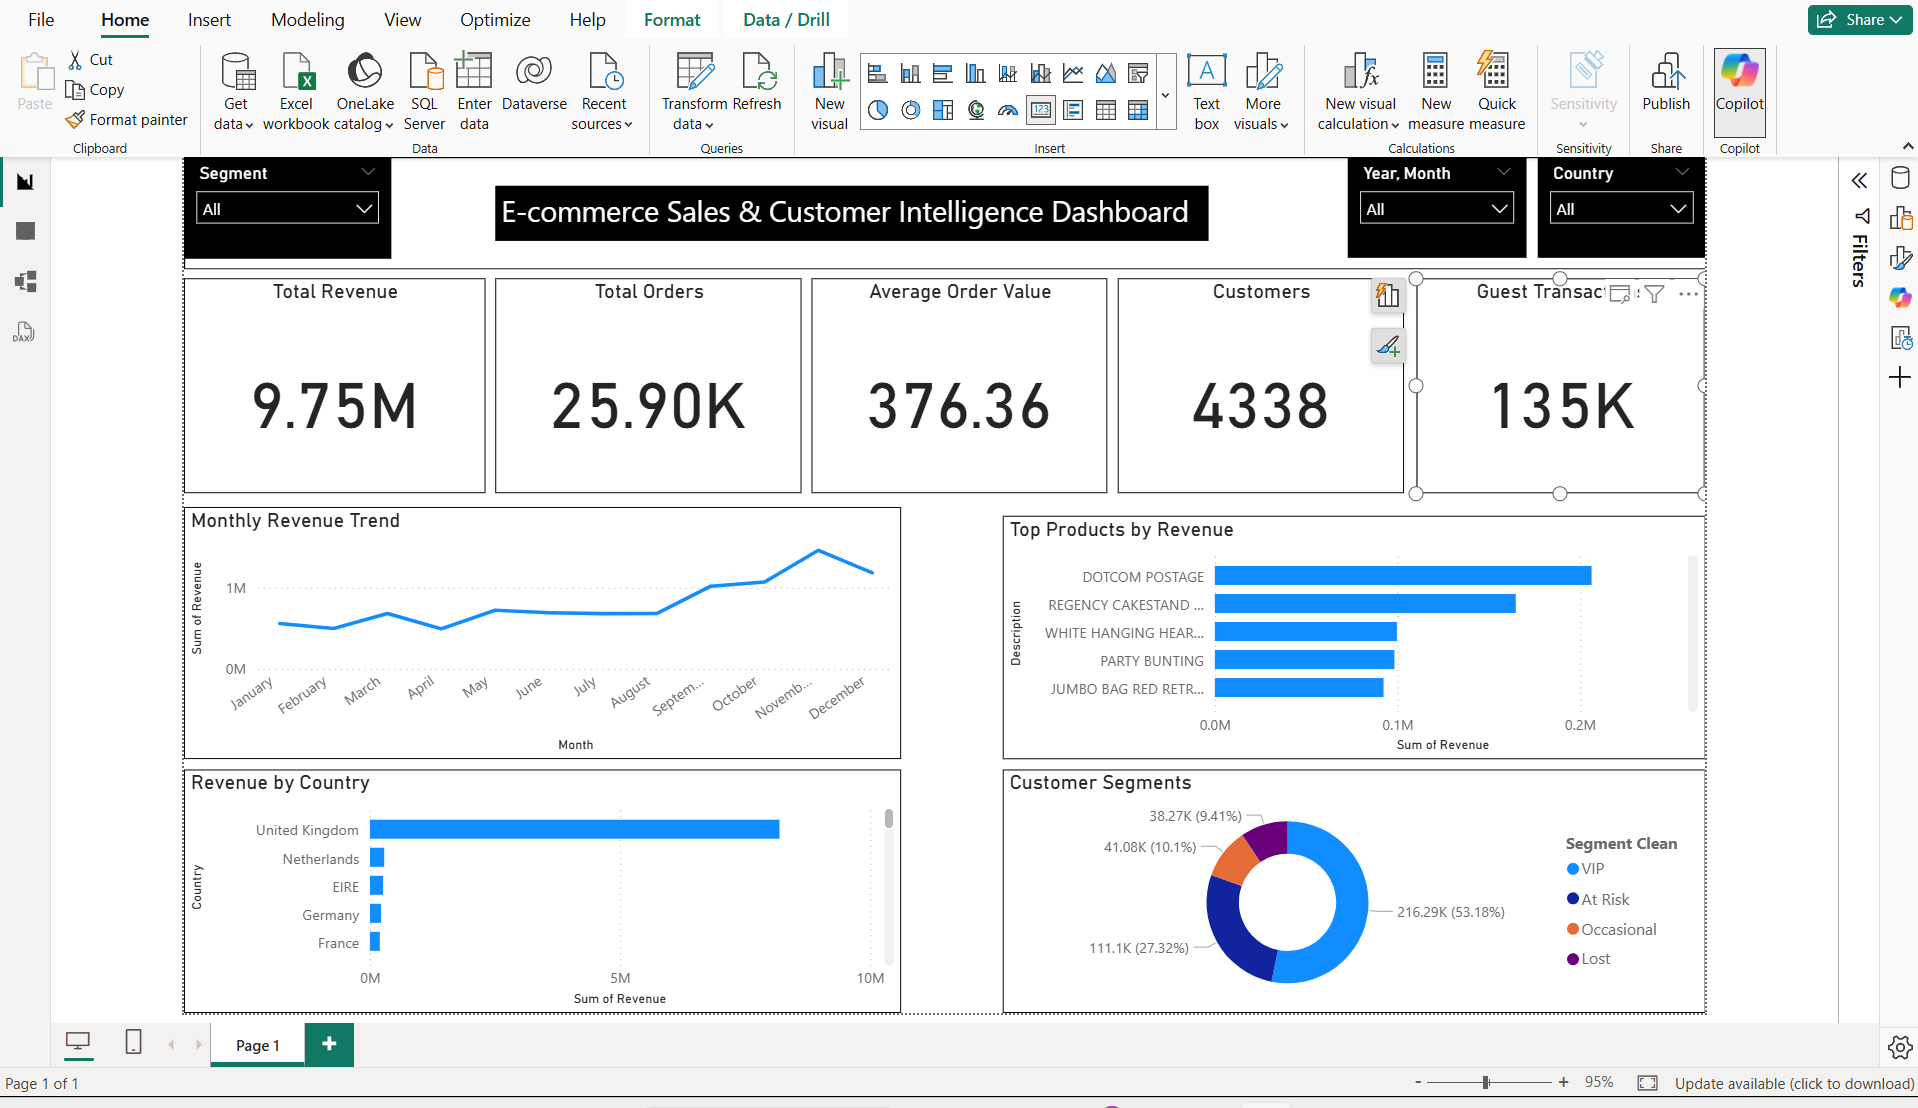

This screenshot's page, from the dashboard's own definition file:
{"tool":"powerbi","page":{"name":"Page 1","canvas":[1280,720],"ordinal":0},"visuals":[{"type":"shape","box":[0,0,1280.6,94.6],"z":0},{"type":"card","title":"Total Revenue","fields":{"Values":["Sum(OnlineRetail.Revenue)"]},"box":[0,102,253.4,180.8],"z":1000},{"type":"card","title":"Total Orders","fields":{"Values":["Count(OnlineRetail.InvoiceNo)"]},"box":[261.8,102,257.6,180.8],"z":2000},{"type":"card","title":"Average Order Value","fields":{"Values":["Measures Table.AOV"]},"box":[527.8,102,249.2,180.8],"z":3000},{"type":"card","title":"Customers","fields":{"Values":["Count(customer_segments_labelled.CustomerID)"]},"box":[785.4,102,240.8,180.8],"z":4000},{"type":"lineChart","title":"Monthly Revenue Trend","fields":{"Category":["OnlineRetail.InvoiceDate.Variation.Date Hierarchy.Month"],"Y":["Sum(OnlineRetail.Revenue)"]},"box":[0,294.4,603.5,212.4],"z":5000},{"type":"barChart","title":"Top Products by Revenue","fields":{"Category":["OnlineRetail.Description"],"Y":["Sum(OnlineRetail.Revenue)"]},"box":[688.7,301.8,590.9,205],"z":6000},{"type":"barChart","title":"Revenue by Country","fields":{"Category":["OnlineRetail.Country"],"Y":["Sum(OnlineRetail.Revenue)"]},"box":[0,515.2,603.5,205],"z":7000},{"type":"donutChart","title":"Customer Segments","fields":{"Y":["CountNonNull(OnlineRetail.CustomerID)"],"Category":["customer_segments_labelled.Segment Clean"]},"box":[688.7,515.2,590.9,205],"z":8000},{"type":"textbox","box":[261.8,24.2,600.4,46.3],"z":9000},{"type":"slicer","fields":{"Values":["OnlineRetail.InvoiceDate.Variation.Date Hierarchy.Year","OnlineRetail.InvoiceDate.Variation.Date Hierarchy.Month"]},"box":[978.9,0,150.4,85.2],"z":10000},{"type":"slicer","fields":{"Values":["OnlineRetail.Country"]},"box":[1138.7,0,140.9,85.2],"z":11000},{"type":"slicer","fields":{"Values":["customer_segments_labelled.Segment"]},"box":[0,0,174.1,85.3],"z":12000},{"type":"card","title":"Guest Transactions","fields":{"Values":["Measures Table.Blank CustomerIDs"]},"box":[1036.7,102,242.9,180.8],"z":12001}]}

Visuals, with their boxes on the page's 1280x720 design canvas (x1, y1, x2, y2). These are canvas units, not pixel positions in the 1918x1108 screenshot, which may show the page scaled, cropped or inside an application window:
shape: [x1=0, y1=0, x2=1281, y2=95]
"Total Revenue" card: [x1=0, y1=102, x2=253, y2=283]
"Total Orders" card: [x1=262, y1=102, x2=519, y2=283]
"Average Order Value" card: [x1=528, y1=102, x2=777, y2=283]
"Customers" card: [x1=785, y1=102, x2=1026, y2=283]
"Monthly Revenue Trend" lineChart: [x1=0, y1=294, x2=604, y2=507]
"Top Products by Revenue" barChart: [x1=689, y1=302, x2=1280, y2=507]
"Revenue by Country" barChart: [x1=0, y1=515, x2=604, y2=720]
"Customer Segments" donutChart: [x1=689, y1=515, x2=1280, y2=720]
textbox: [x1=262, y1=24, x2=862, y2=70]
slicer - OnlineRetail.InvoiceDate.Variation.Date Hierarchy.Year x OnlineRetail.InvoiceDate.Variation.Date Hierarchy.Month: [x1=979, y1=0, x2=1129, y2=85]
slicer - OnlineRetail.Country: [x1=1139, y1=0, x2=1280, y2=85]
slicer - customer_segments_labelled.Segment: [x1=0, y1=0, x2=174, y2=85]
"Guest Transactions" card: [x1=1037, y1=102, x2=1280, y2=283]
